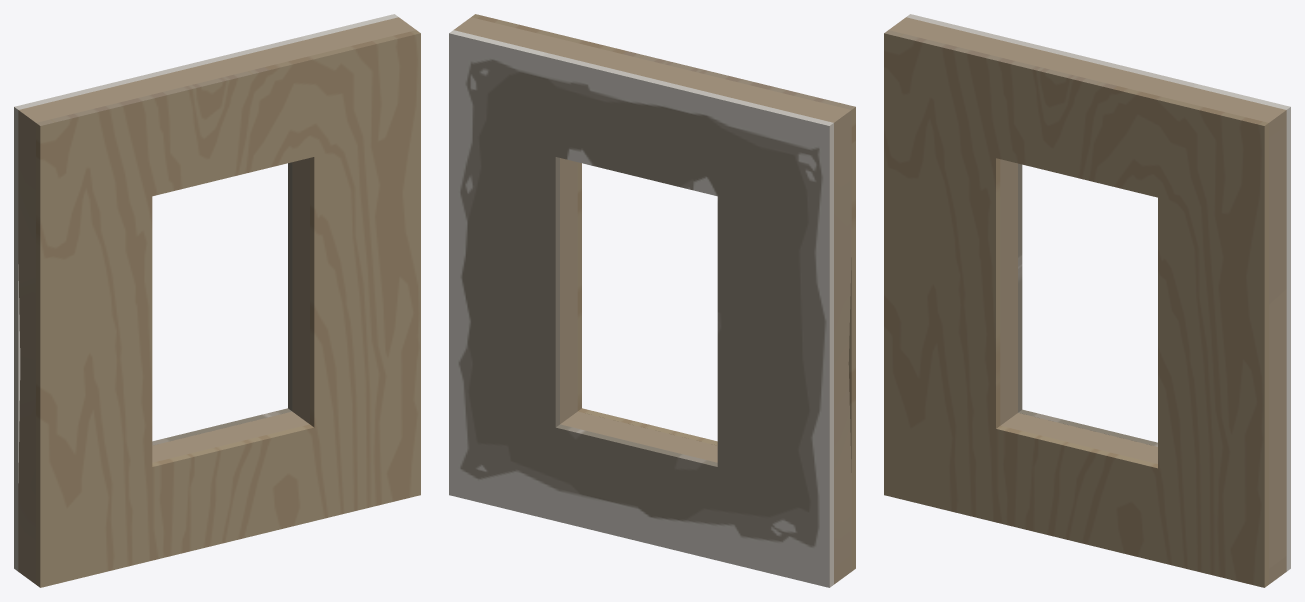
The model's file is SM_Bld_House_Wall_Window_03.glb.
The picture shows the model from 3 angles, left to right: view 1: azimuth 30°, elevation 25°; view 2: azimuth 150°, elevation 25°; view 3: azimuth 330°, elevation 25°; orthographic projection.
Parts seen in each view (by area): view 1: SM_Bld_House_Wall_Window_03; view 2: SM_Bld_House_Wall_Window_03; view 3: SM_Bld_House_Wall_Window_03.
Boxes of the visible parts, x1=… form: SM_Bld_House_Wall_Window_03: x1=14, y1=14, x2=420, y2=587; SM_Bld_House_Wall_Window_03: x1=449, y1=14, x2=855, y2=587; SM_Bld_House_Wall_Window_03: x1=884, y1=14, x2=1290, y2=587.
Size of the model in its own units: 2.5 by 2.9 by 0.3.
Materials: 1 (1 with a texture image).
